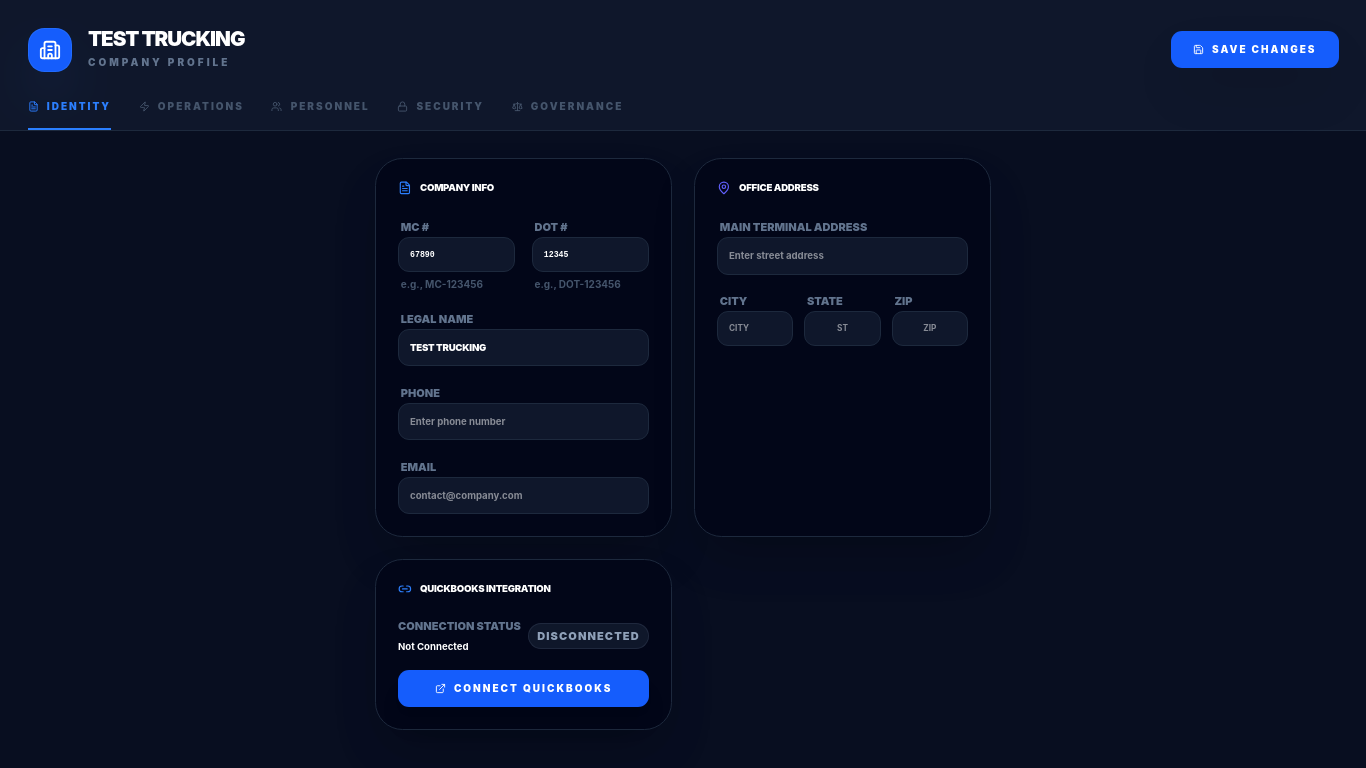
it: CompanyProfile registry tab inline quick-edit › renders 1 role <select> per user row with aria-label containing 'role'
Step 1. Click the button "Personnel" → (320, 114), box [271,99,370,130]
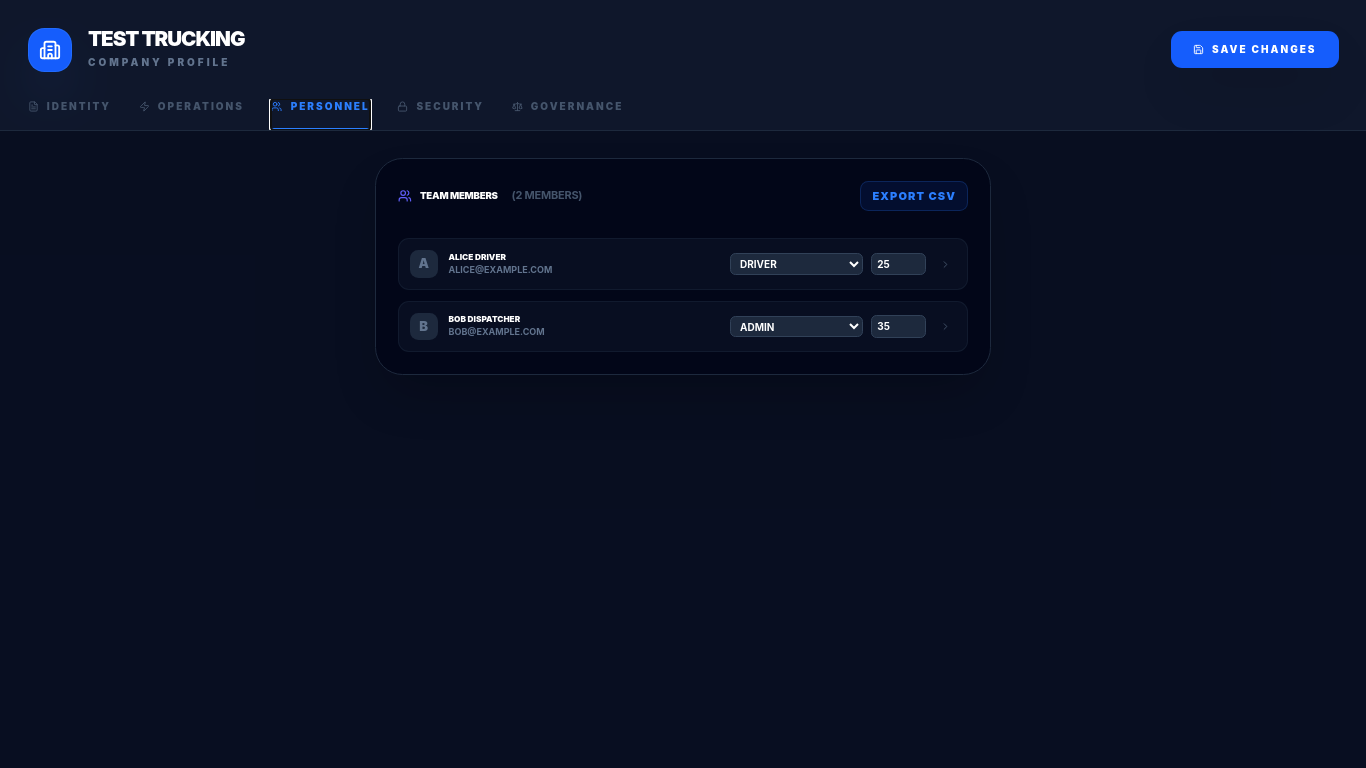
expect the text "Alice Driver" is shown: met, box [448,252,506,262]
expect the number of dropdowns named "role" is 2: met, box [730,253,862,275]; [730,316,862,337]
